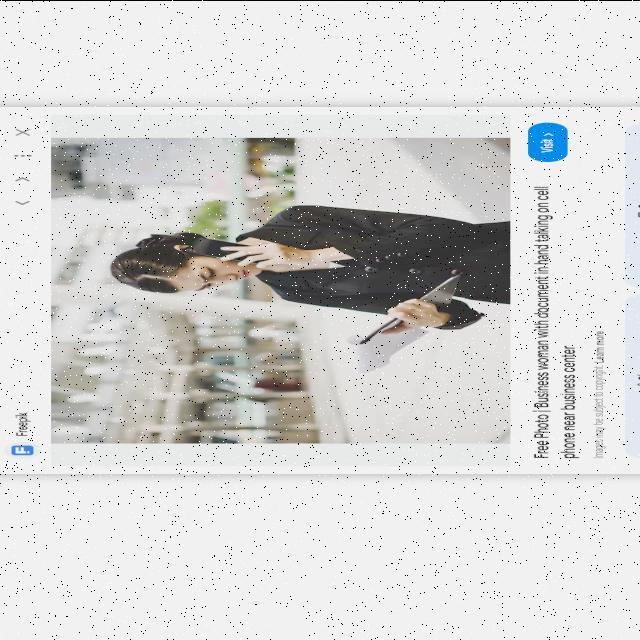face_no_mask: (172, 252, 258, 292)
